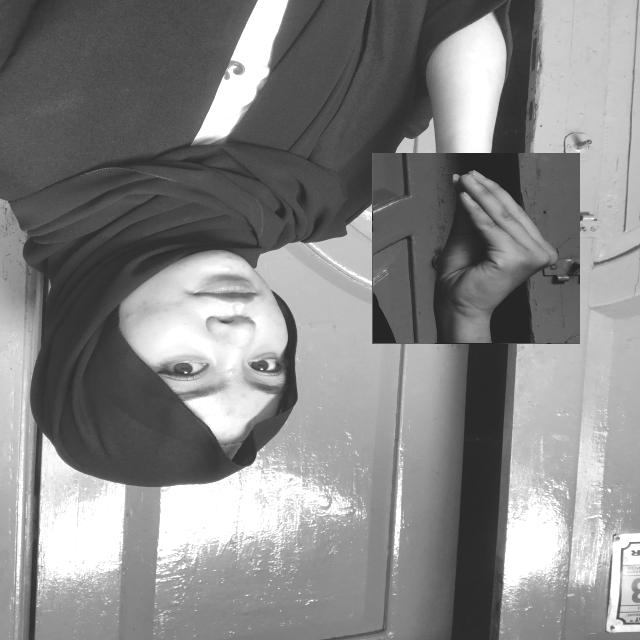kapan: (372, 153, 580, 344)
